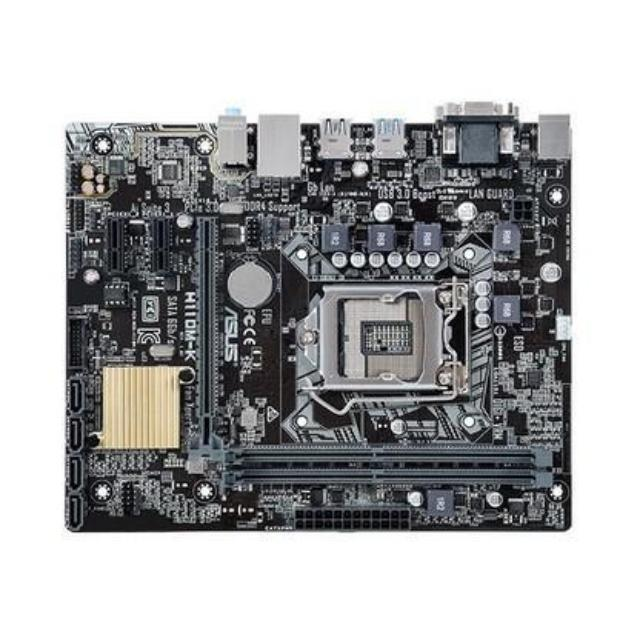Mainboard: (56, 104, 574, 536)
